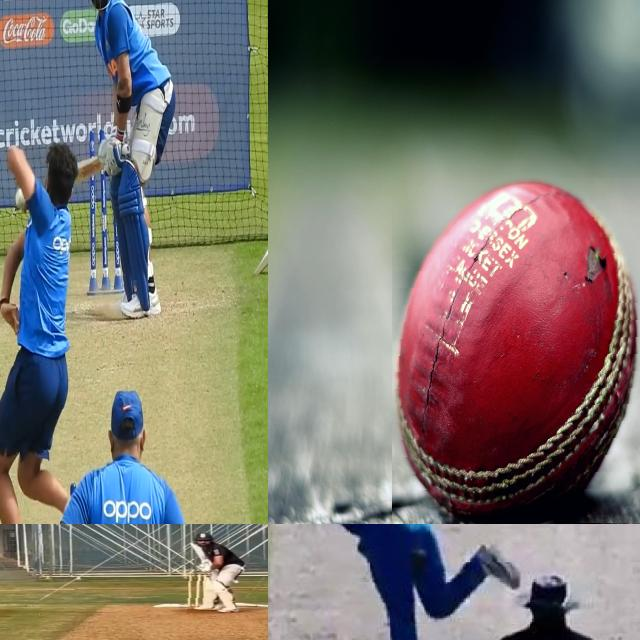Cricket ball: (392, 178, 640, 524), (16, 188, 24, 213)
Stumps: (188, 572, 212, 610)
